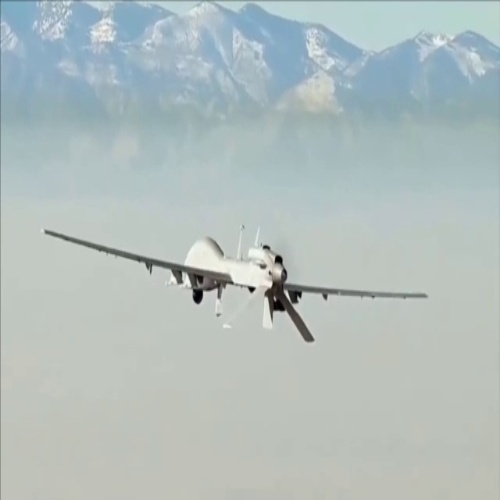uav805: (39, 223, 431, 342)
